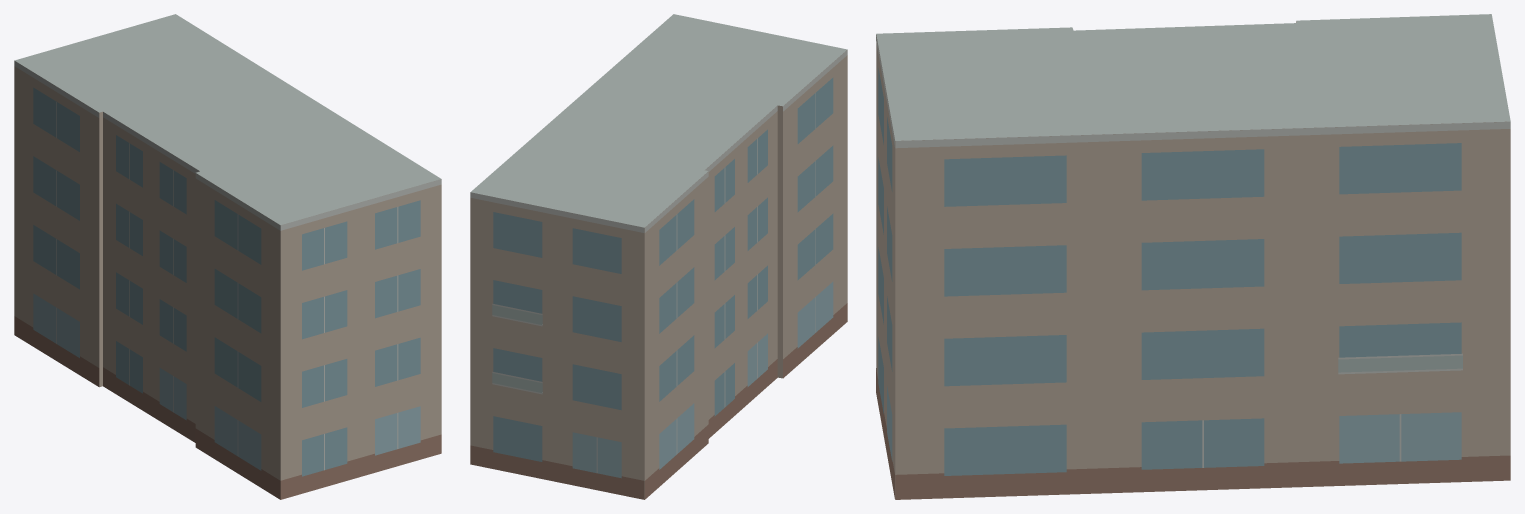
The model's file is survey-upis-32625548.glb.
The picture shows the model from 3 angles, left to right: view 1: azimuth 30°, elevation 25°; view 2: azimuth 150°, elevation 25°; view 3: azimuth 270°, elevation 25°; orthographic projection. The views are drawn at different scales.
Parts seen in each view (by area): view 1: survey-upis-32625548.tmp; view 2: survey-upis-32625548.tmp; view 3: survey-upis-32625548.tmp.
Part boxes in pixels (x1,y1,x2,y2): survey-upis-32625548.tmp: (14, 14, 441, 499); survey-upis-32625548.tmp: (470, 14, 847, 499); survey-upis-32625548.tmp: (876, 14, 1510, 499).
Size of the model in its own units: 9.17 by 12.08 by 19.37.
